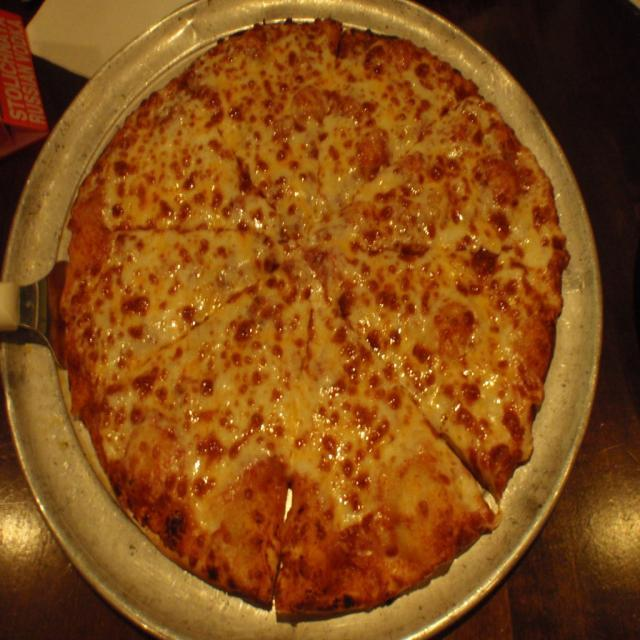Pizza: (64, 10, 566, 601)
